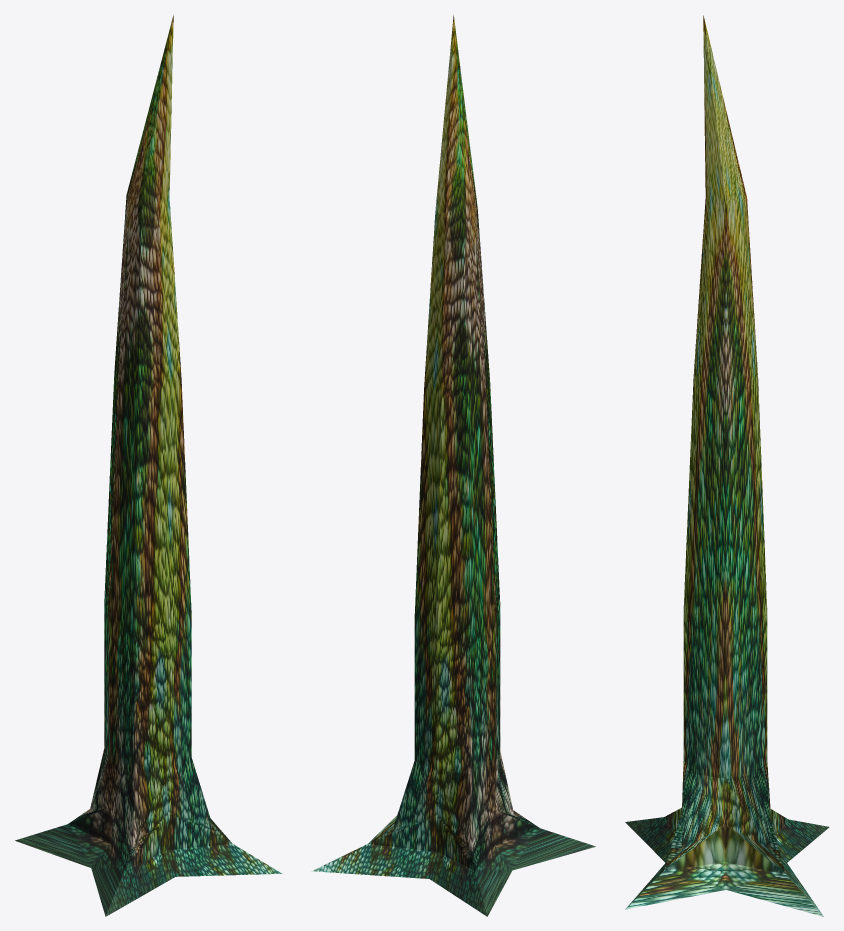
File: monster_plant_stem.fbx
3 renders of one model, left to right at view 1: azimuth 30°, elevation 25°; view 2: azimuth 150°, elevation 25°; view 3: azimuth 270°, elevation 25°, orthographic. The views are drawn at different scales.
Parts seen in each view (by area): view 1: monster_plant_1:Layer1; view 2: monster_plant_1:Layer1; view 3: monster_plant_1:Layer1.
Boxes of the visible parts, <box> form: monster_plant_1:Layer1: <box>15,15,282,916</box>; monster_plant_1:Layer1: <box>312,15,595,916</box>; monster_plant_1:Layer1: <box>625,15,829,916</box>.
Size of the model in its own units: 281 by 1190 by 257.
Materials: 1 (1 with a texture image).
